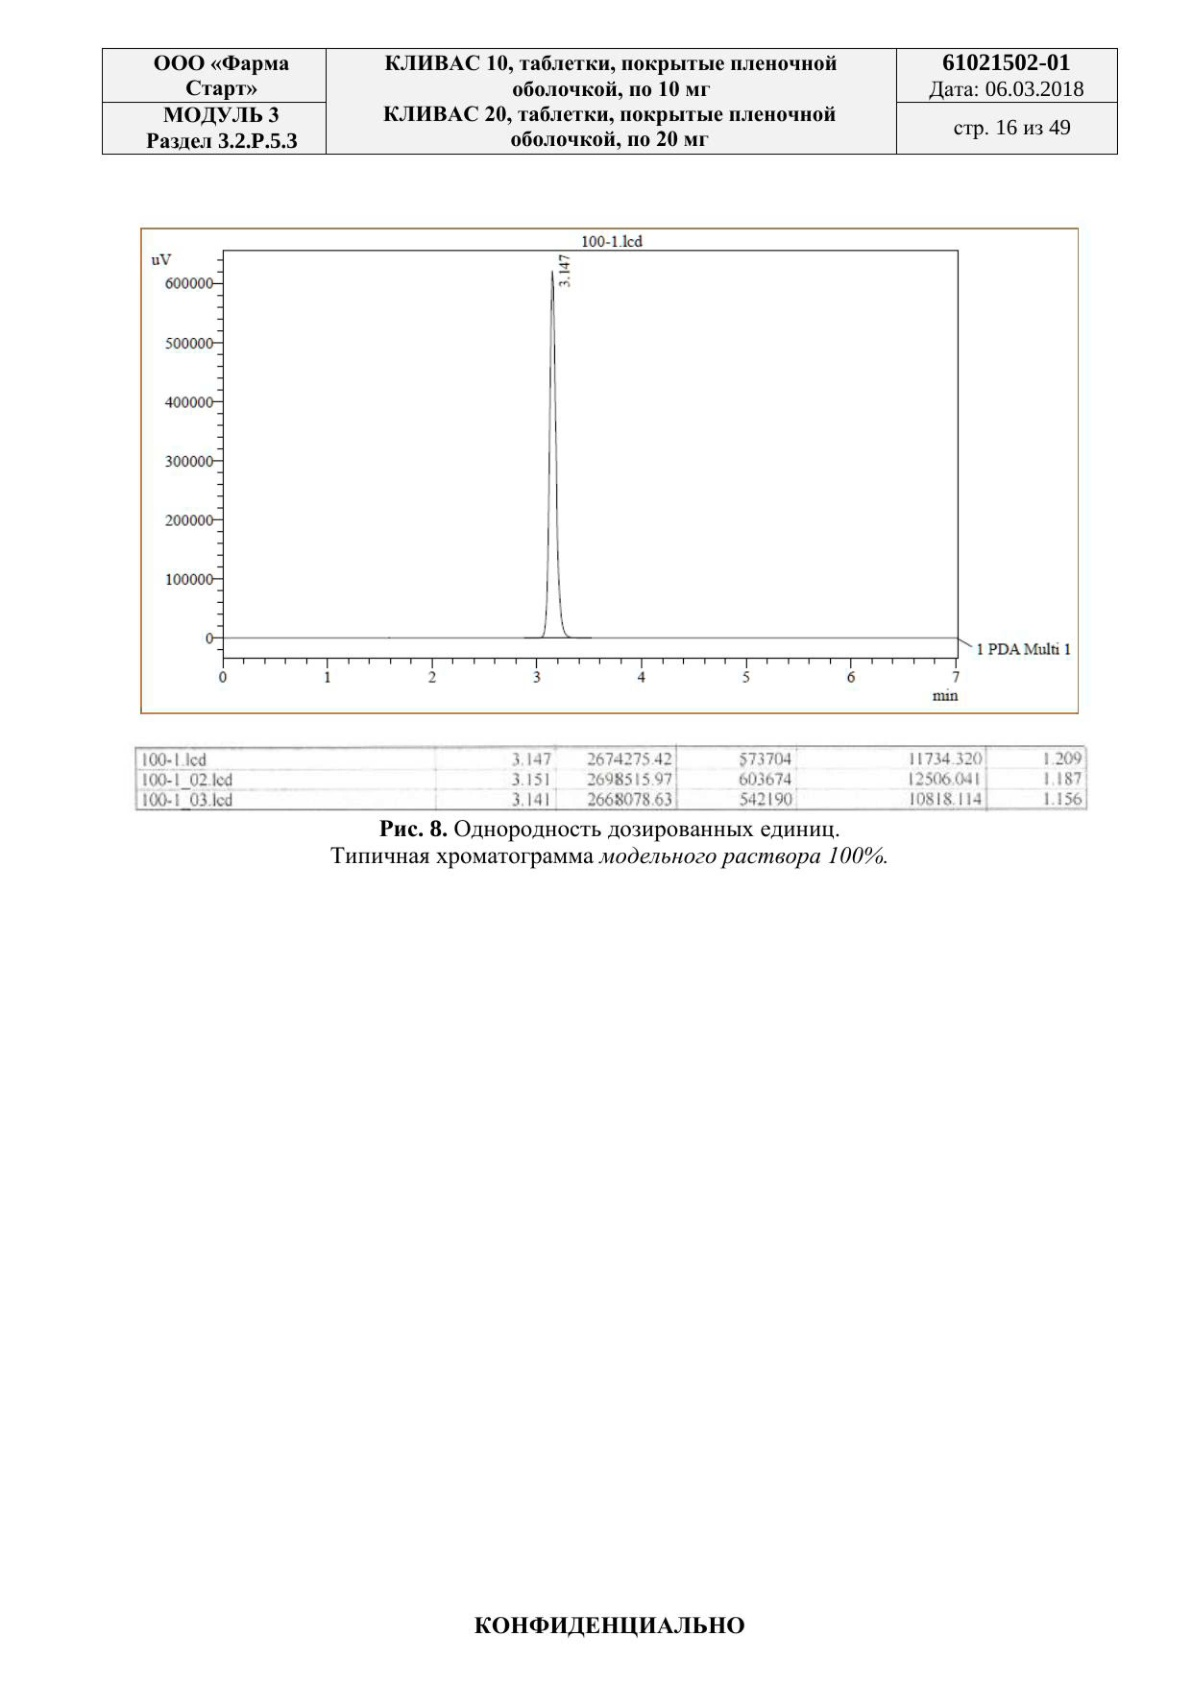full_lined: (132, 744, 1088, 812)
merged_cells: (101, 46, 1118, 156)
